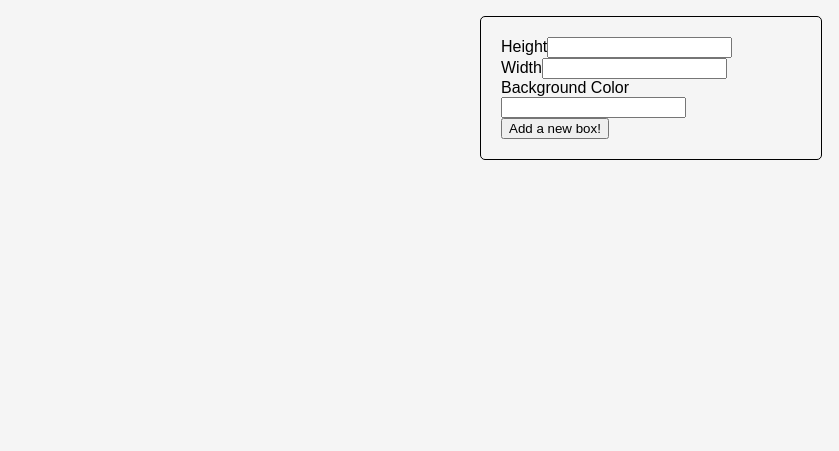
Test case: can add a new box
The image size is (839, 451).
Type "peachpuff" into the field labelled "Background Color" at coordinates (594, 108), box [501,97,686,118]
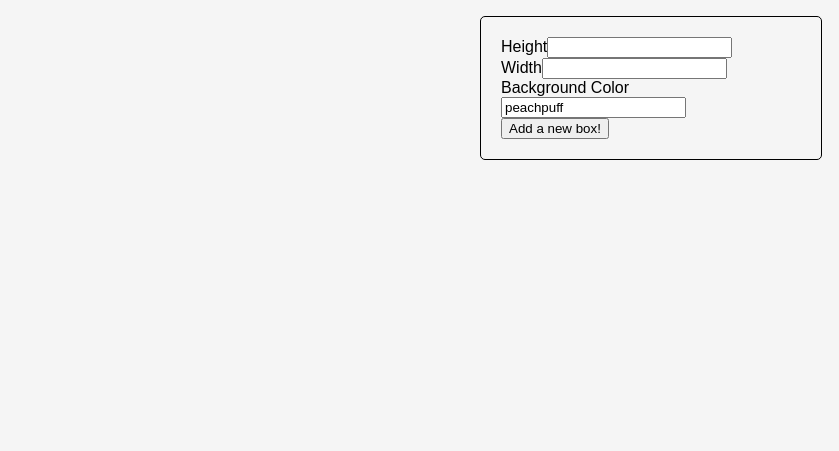
Type "200" into the field labelled "Width" at coordinates (634, 68), box [542,58,727,79]
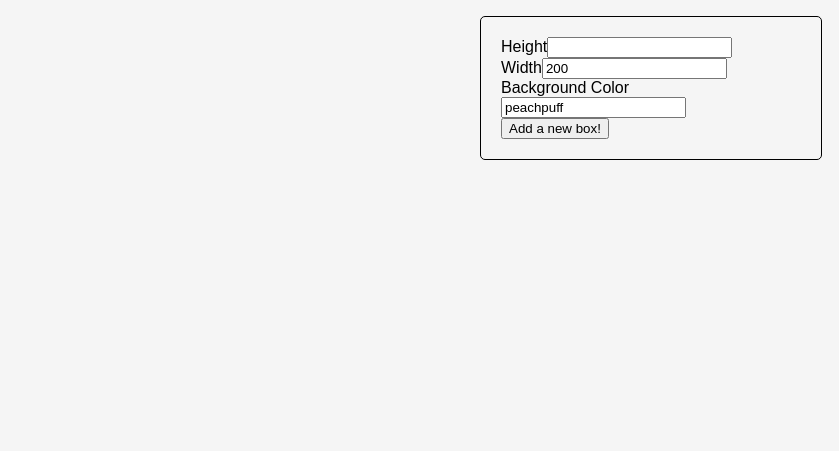
Type "200" into the field labelled "Height" at coordinates (640, 48), box [547,37,732,58]
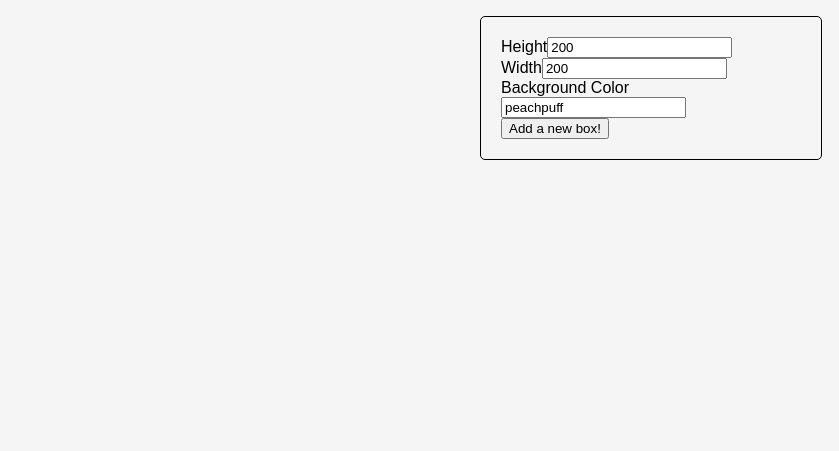
Click the button "Add a new box!" at coordinates (555, 128), box [501,118,609,139]
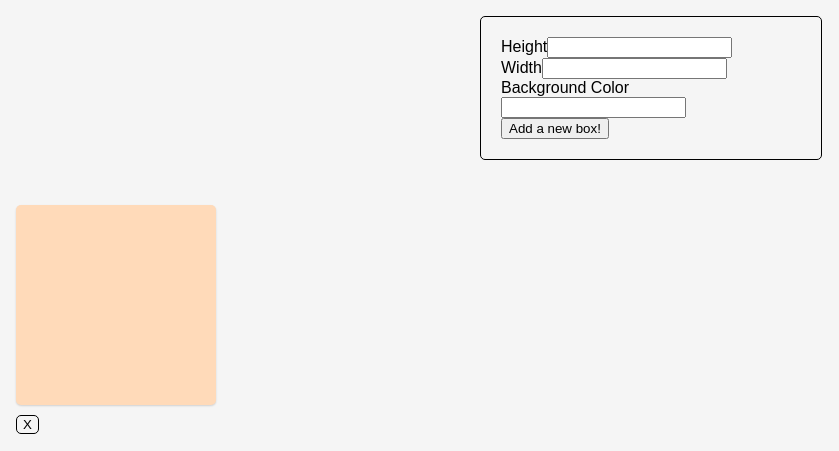
Expected: the number of fields is 3, [547,37,732,58]; [542,58,727,79]; [501,97,686,118]
Now the button "X" is shown, box [16,415,39,434]
